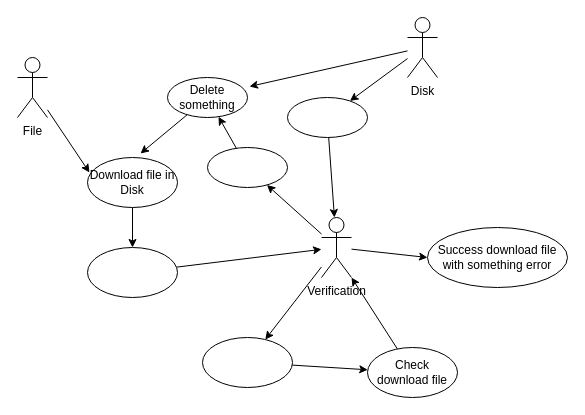
This 585x415 diagram has some shape labels left out. The box of each missing label's shape, as (x1, y1, x2, y2) in pixels:
Check Free Space: (286, 96, 368, 138)
CheckErrors: (86, 246, 178, 298)
Failed for Free Space: (206, 146, 288, 188)
Something error: (202, 336, 292, 388)
